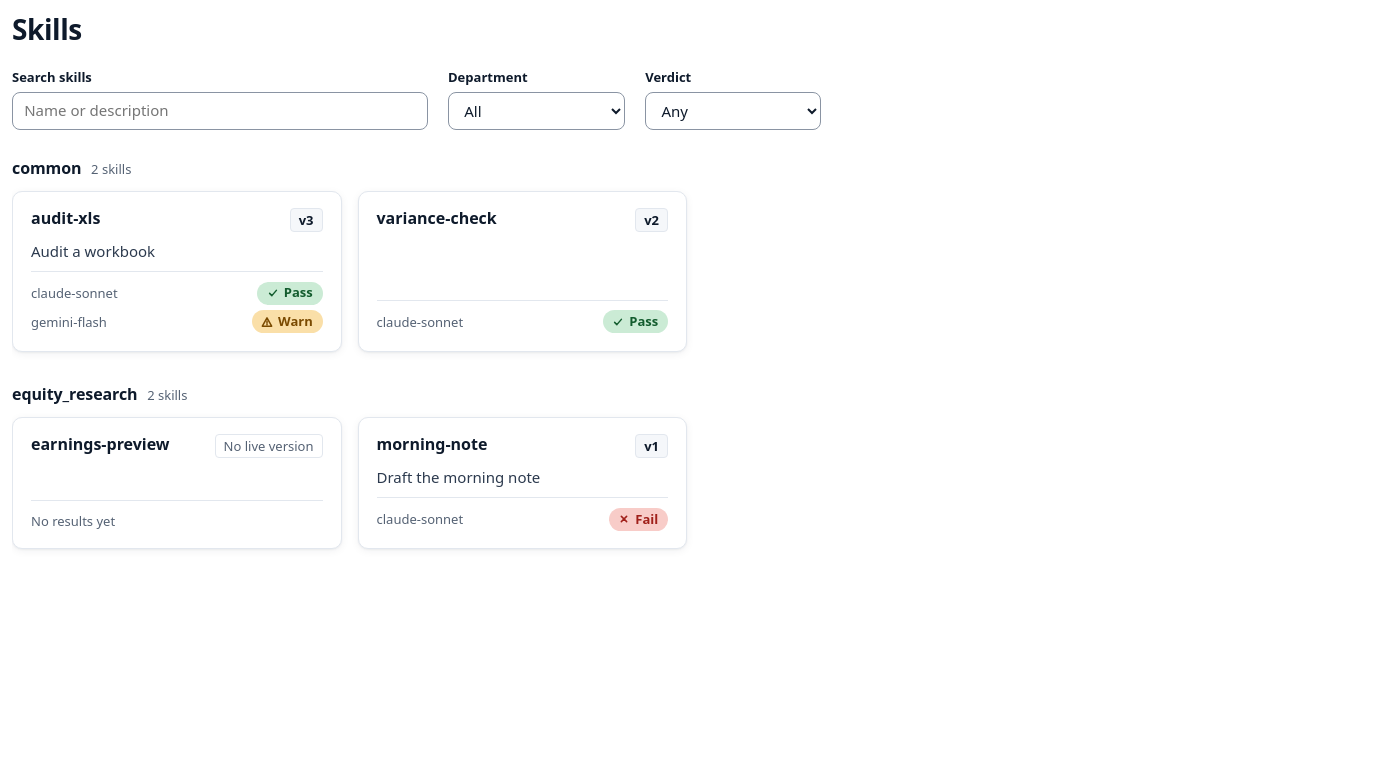
Catalog › says no skills match the filters and offers to clear them
Select "common" in the dropdown labelled "Department": (537, 111) [448,92,625,130]
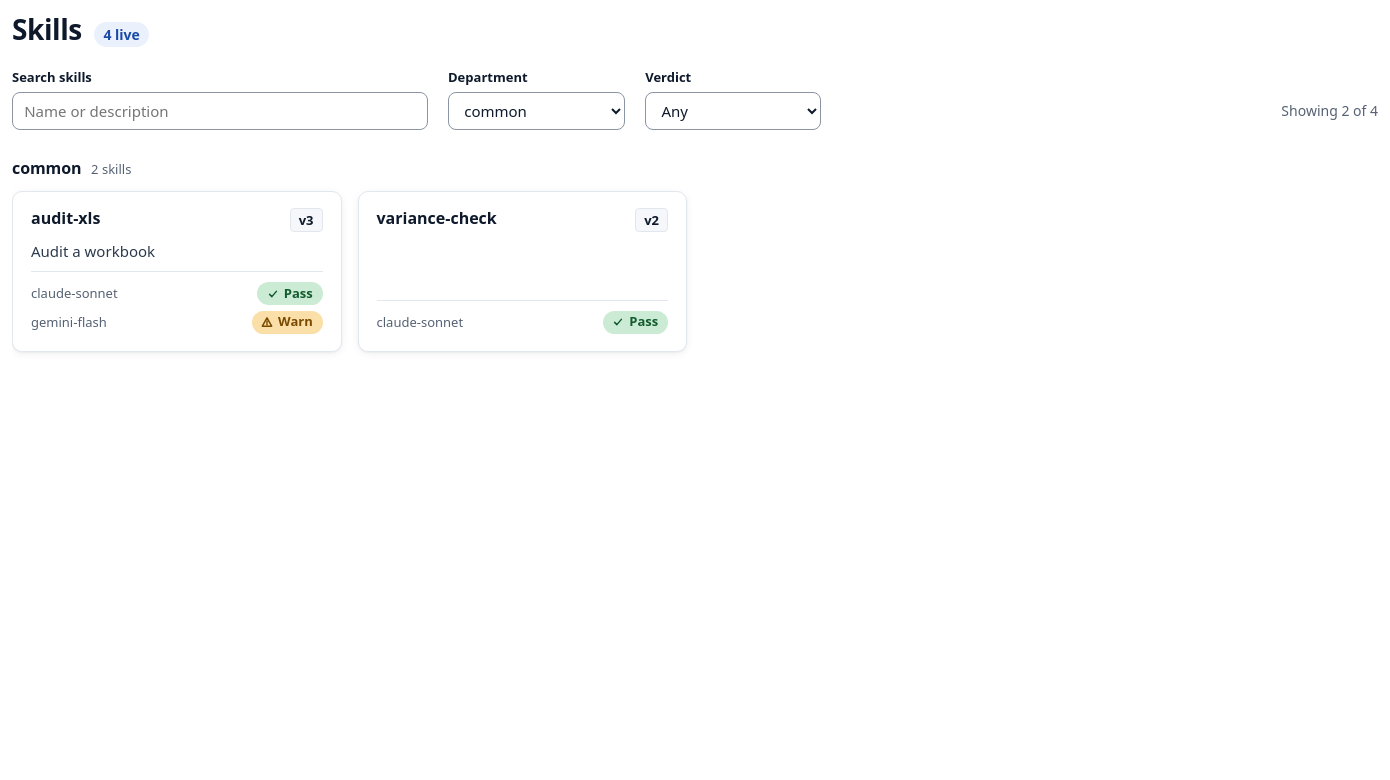
Select "Fail" in the dropdown labelled "Verdict": (733, 111) [645,92,821,130]
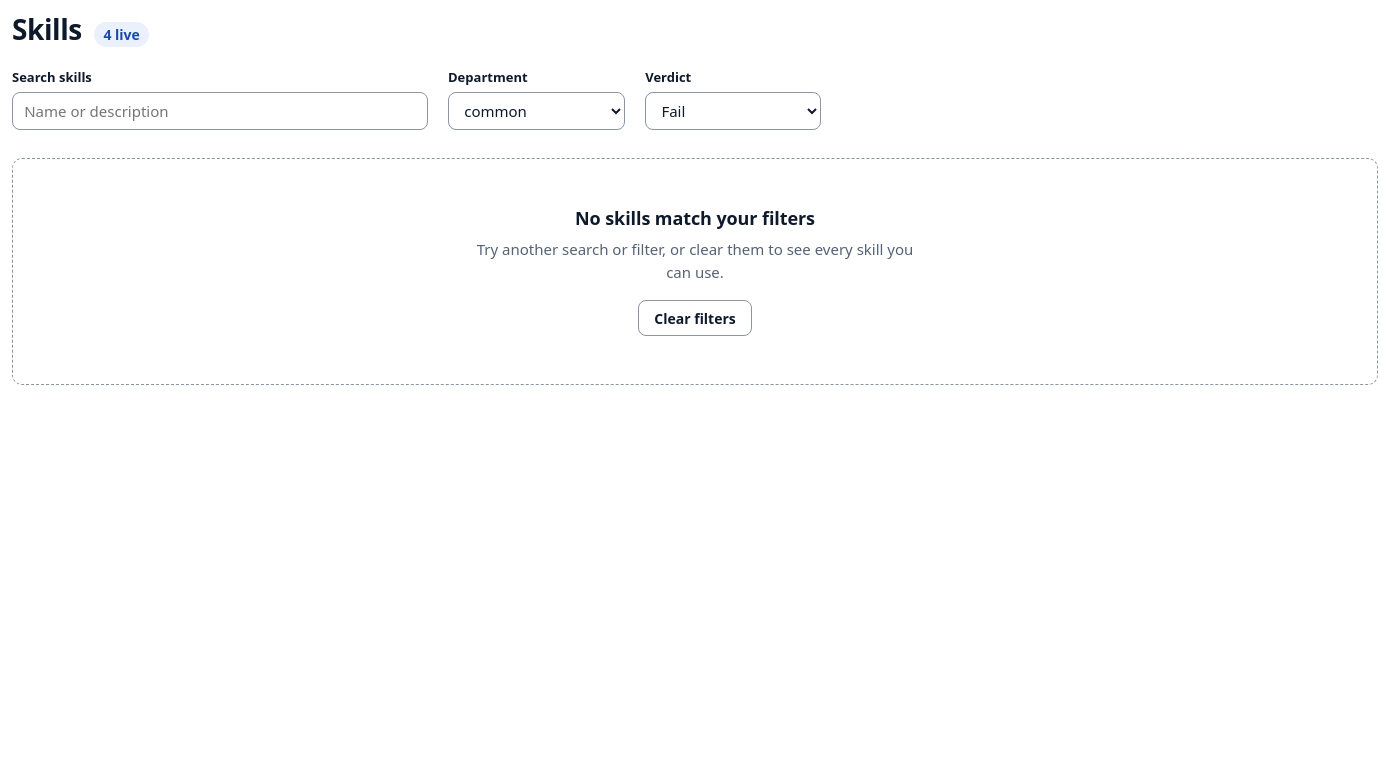
expect the heading "No skills match your filters" is shown: met, box [575,206,815,230]
Click the button "Clear filters": (695, 318) [638,300,752,336]
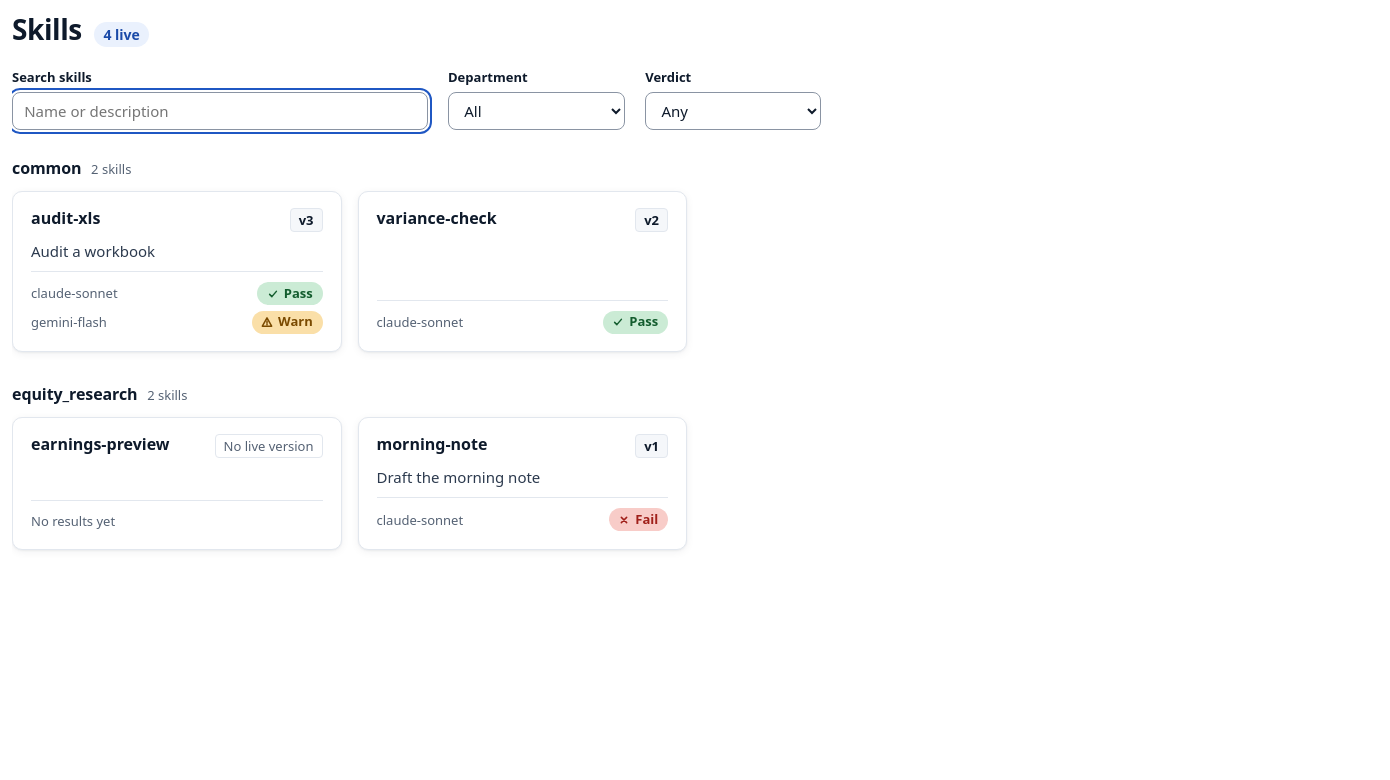
expect the heading "No skills match" is gone: met
expect the link "morning-note" is shown: met, box [376,434,487,456]
expect the link "audit-xls" is shown: met, box [31,207,100,229]
